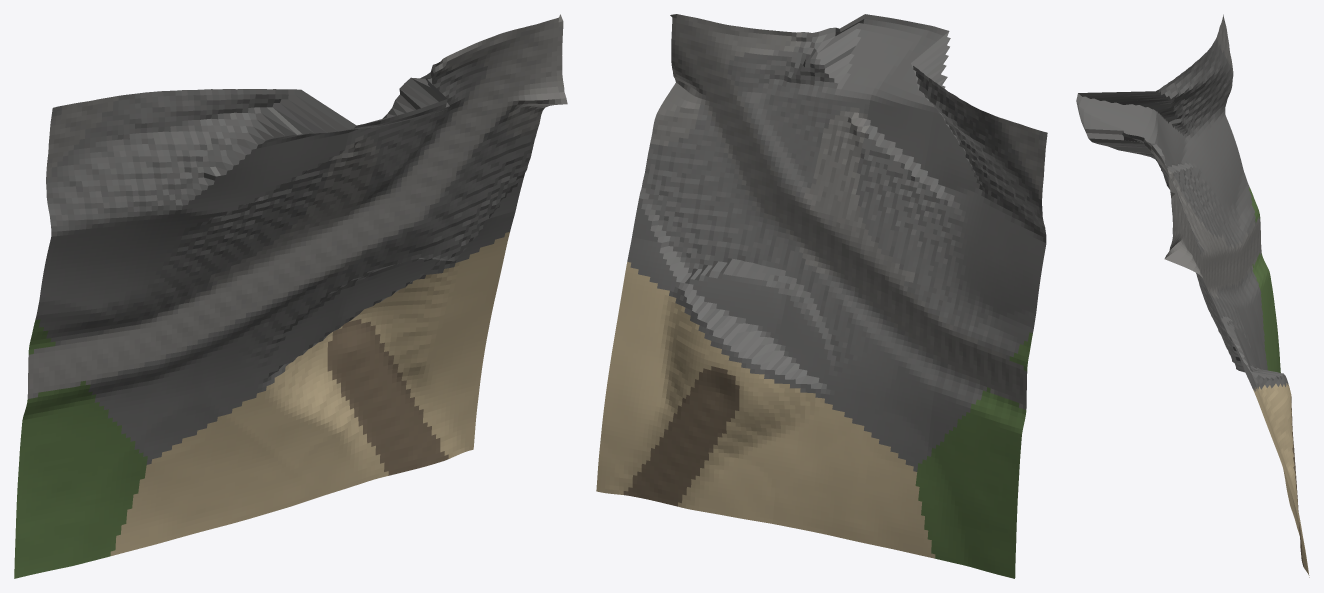
The model's file is SARM_SAR_Terrain_04_04.glb.
3 renders of one model, left to right at view 1: azimuth 30°, elevation 25°; view 2: azimuth 150°, elevation 25°; view 3: azimuth 270°, elevation 25°, orthographic. The views are drawn at different scales.
Parts seen in each view (by area): view 1: SAR_Terrain_04_04.001; view 2: SAR_Terrain_04_04.001; view 3: SAR_Terrain_04_04.001.
Part boxes in pixels (<box>): SAR_Terrain_04_04.001: <box>14,14,567,578</box>; SAR_Terrain_04_04.001: <box>596,14,1047,578</box>; SAR_Terrain_04_04.001: <box>1076,14,1309,577</box>.
Bounding box in the file's own units: 50 × 50 × 27.44.
